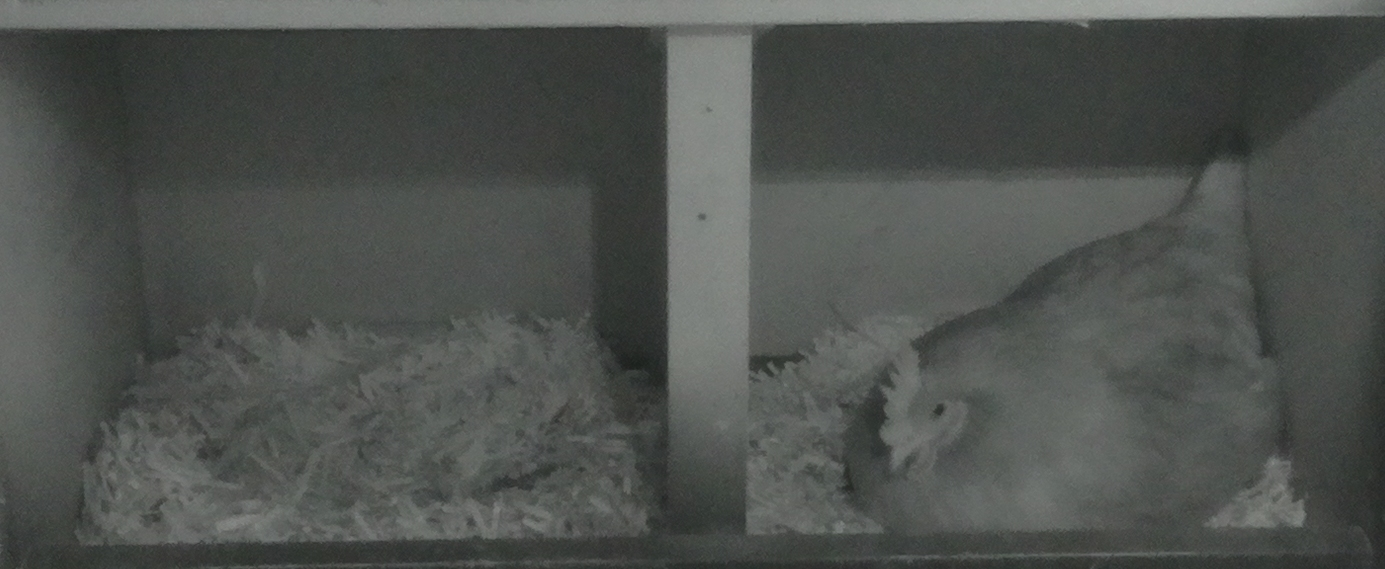Chicken: (851, 135, 1293, 555)
